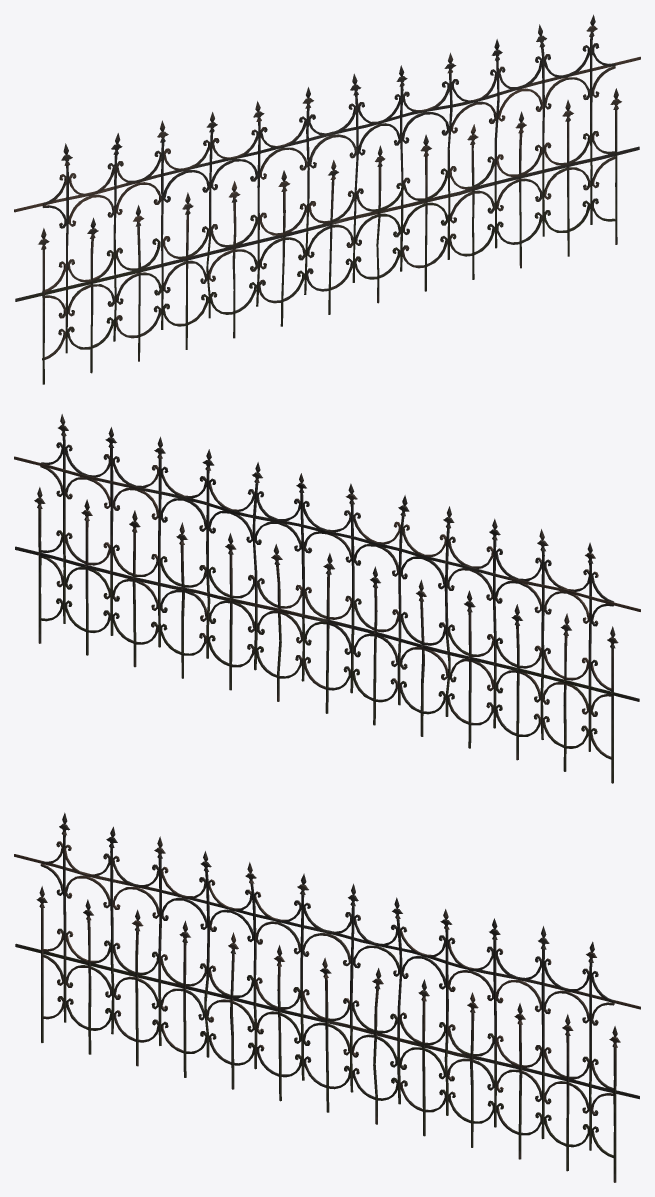
Rendered from Iron_Fence_L_01.fbx.
3 views of the same model, one above another, from view 1: azimuth 30°, elevation 25°; view 2: azimuth 150°, elevation 25°; view 3: azimuth 330°, elevation 25° (orthographic).
Visible parts, largest first — view 1: Iron_Fence_L_01; view 2: Iron_Fence_L_01; view 3: Iron_Fence_L_01.
Boxes of the visible parts, x1,y1,x2,y2 form: Iron_Fence_L_01: [14, 14, 640, 384]; Iron_Fence_L_01: [14, 414, 640, 783]; Iron_Fence_L_01: [14, 812, 640, 1182].
Size of what is drawn, in the model's own units: 961 by 347 by 20.82.
